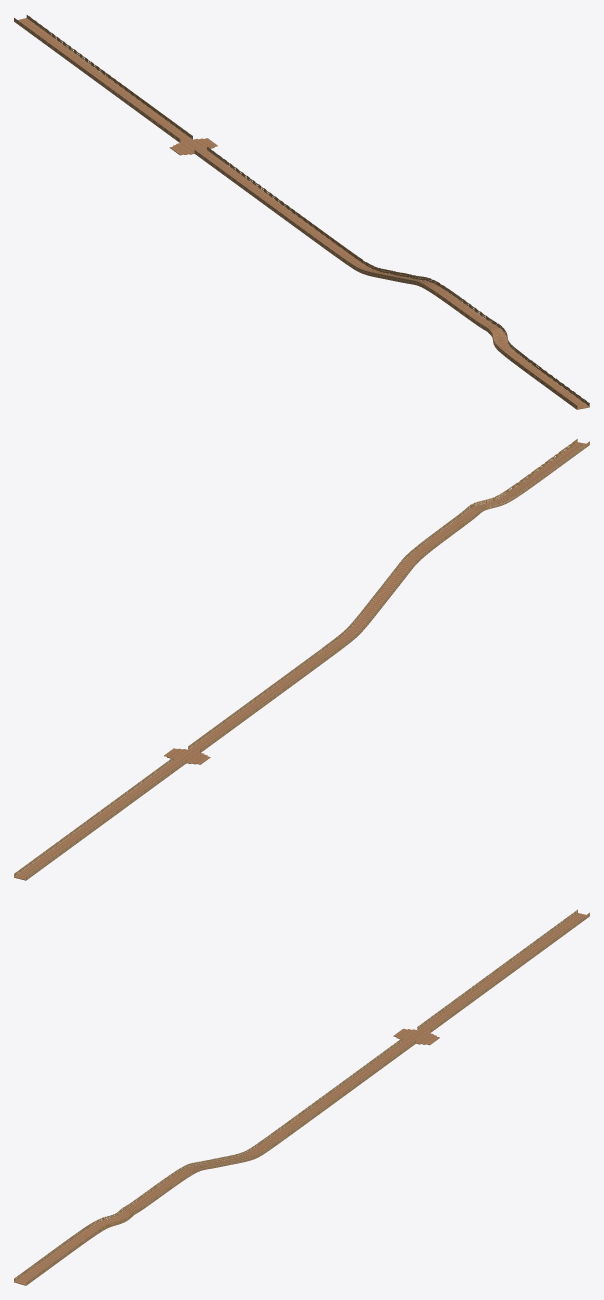
The model's file is track 11_A.fbx.
3 renders of one model, top to bottom at view 1: azimuth 30°, elevation 25°; view 2: azimuth 150°, elevation 25°; view 3: azimuth 330°, elevation 25°, orthographic. The views are drawn at different scales.
Parts seen in each view (by area): view 1: Cube.009, Cube.001; view 2: Cube.009, Cube.001; view 3: Cube.009, Cube.001.
Part boxes in pixels (x1,y1,x2,y2): Cube.009: (14,18,589,409); Cube.001: (14,15,589,408); Cube.009: (14,442,589,880); Cube.001: (14,439,589,879); Cube.009: (14,913,589,1285); Cube.001: (14,909,589,1284).
Size of the model in its own units: 1548 by 1580 by 40490.
2 materials, 2 textured.
